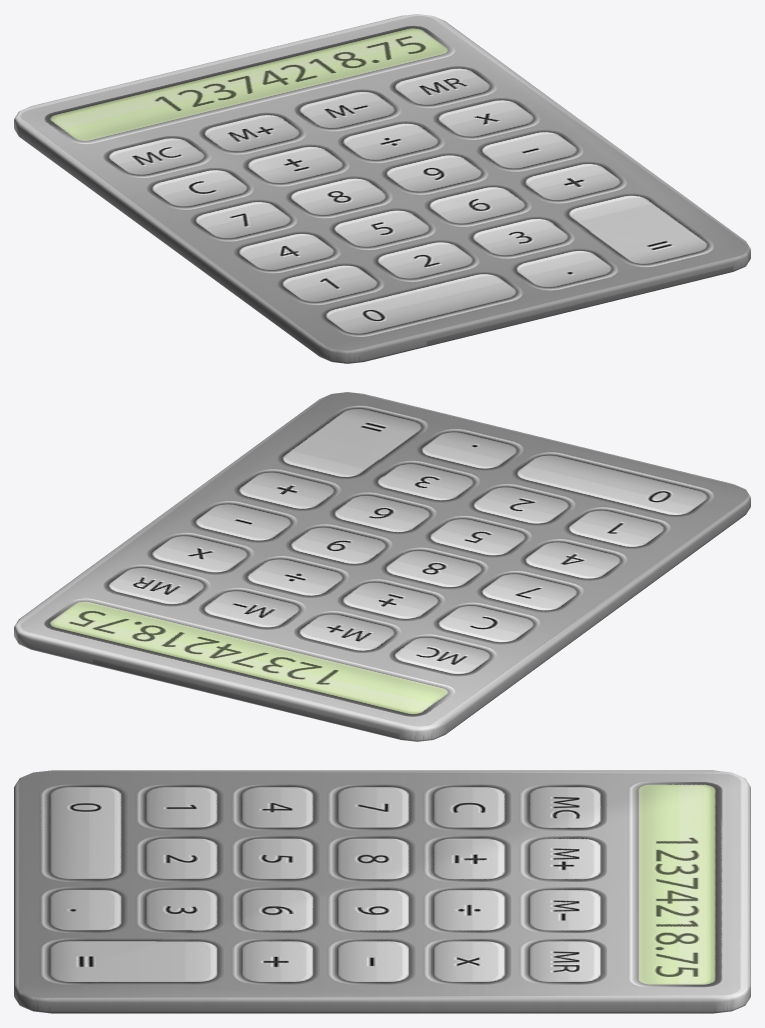
Rendered from Calculator 02 obj.obj.
3 renders of one model, top to bottom at view 1: azimuth 30°, elevation 25°; view 2: azimuth 150°, elevation 25°; view 3: azimuth 270°, elevation 25°, orthographic. The views are drawn at different scales.
Visible parts, largest first — view 1: Calculator 02 obj.obj; view 2: Calculator 02 obj.obj; view 3: Calculator 02 obj.obj.
Boxes of the visible parts, x1=… form: Calculator 02 obj.obj: x1=14, y1=14, x2=750, y2=363; Calculator 02 obj.obj: x1=14, y1=392, x2=750, y2=741; Calculator 02 obj.obj: x1=14, y1=770, x2=750, y2=1013.
Bounding box in the file's own units: 0.6665 × 0.02 × 0.9009.
